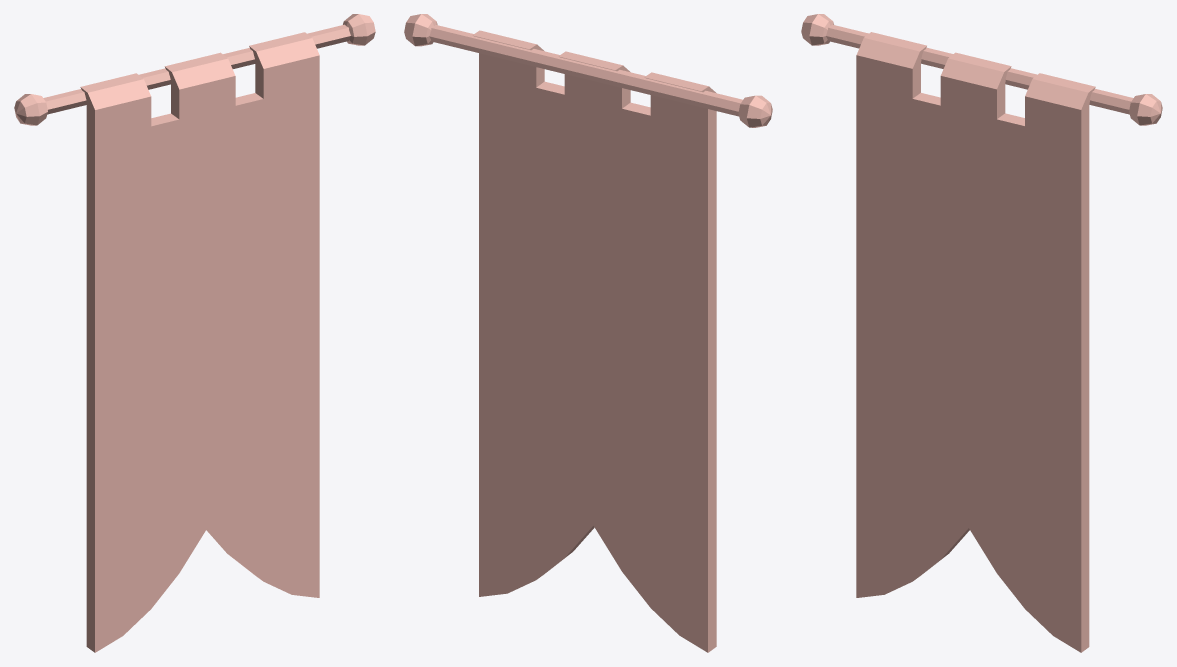
The model's file is Mega_Asset_s_Pack_Cube_341.FBX.
3 renders of one model, left to right at view 1: azimuth 30°, elevation 25°; view 2: azimuth 150°, elevation 25°; view 3: azimuth 330°, elevation 25°, orthographic. The views are drawn at different scales.
Visible parts, largest first — view 1: Mega_Asset_s_Pack_Cube_341; view 2: Mega_Asset_s_Pack_Cube_341; view 3: Mega_Asset_s_Pack_Cube_341.
Part boxes in pixels (x1=…): Mega_Asset_s_Pack_Cube_341: x1=14, y1=14, x2=375, y2=652; Mega_Asset_s_Pack_Cube_341: x1=404, y1=14, x2=772, y2=652; Mega_Asset_s_Pack_Cube_341: x1=801, y1=14, x2=1162, y2=652.
Size of what is drawn, in the model's own units: 191 by 19.9 by 286.
